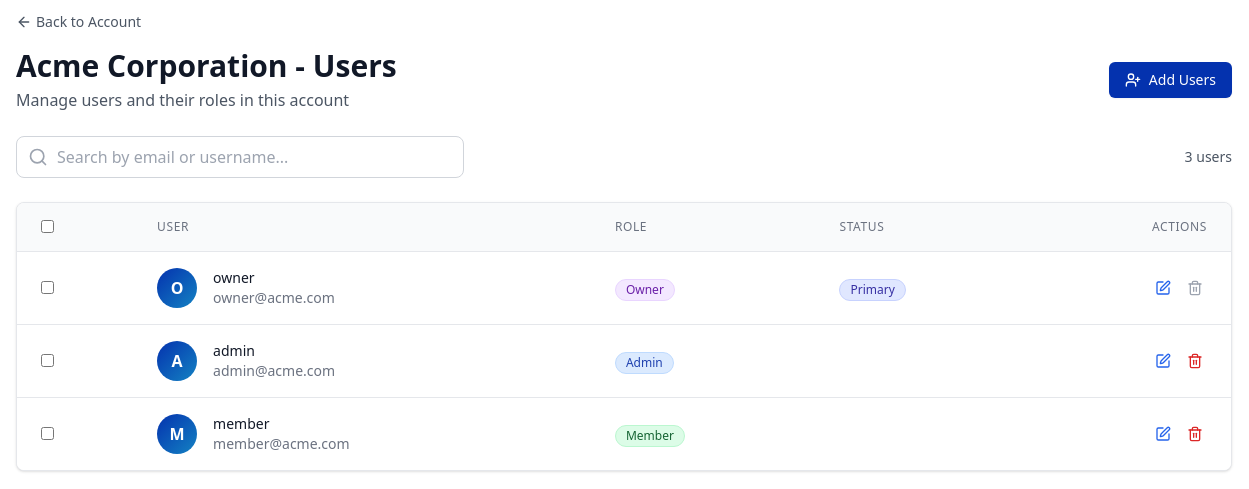
it: AccountUserManager › should show bulk action buttons when users selected
Expected: the text "owner@acme.com" is shown, [213, 288, 335, 308]
Click the checkbox in the row of "owner@acme.com" at {"x": 48, "y": 288}, box [41, 281, 54, 294]
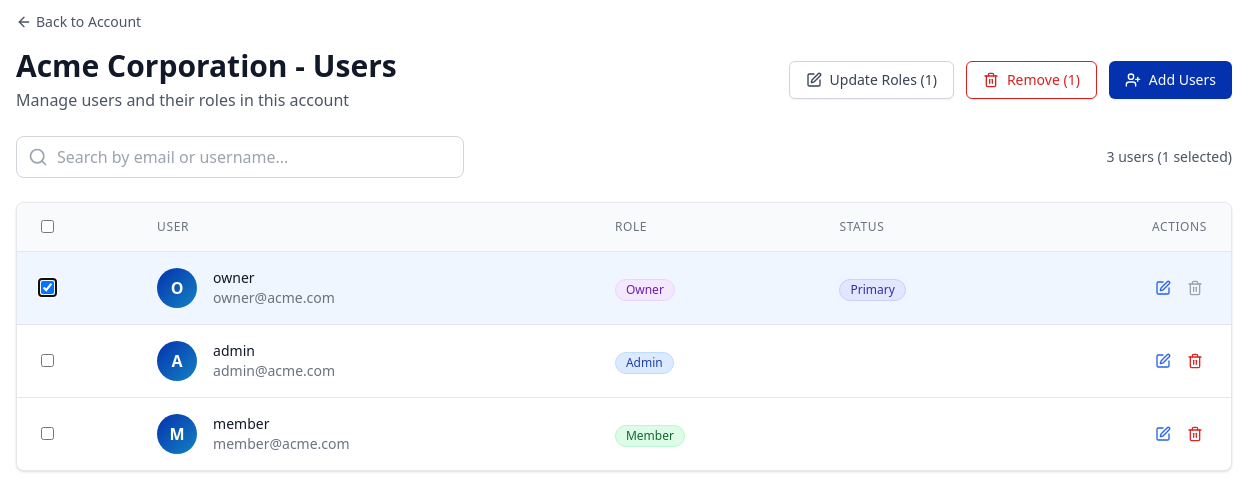
Now the button "Update Roles (1)" is shown, box [788, 61, 954, 99]
Now the button "Remove (1)" is shown, box [966, 61, 1097, 99]
